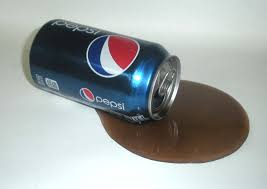can: (16, 12, 188, 131)
